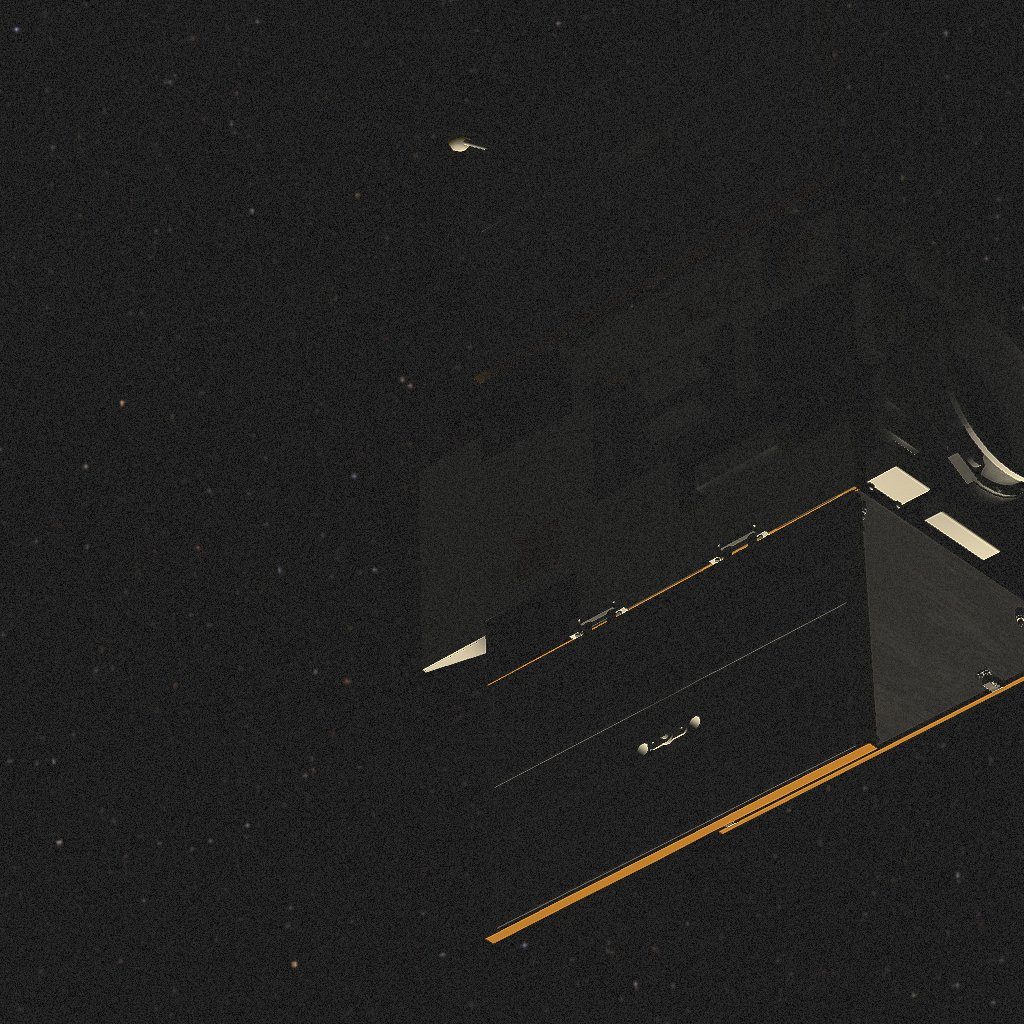proba_2: (368, 36, 1011, 946)
